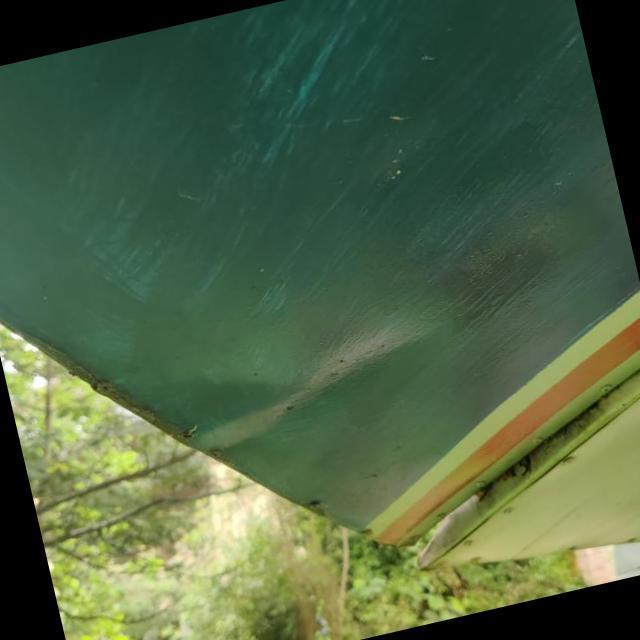Dent: (138, 268, 474, 516)
